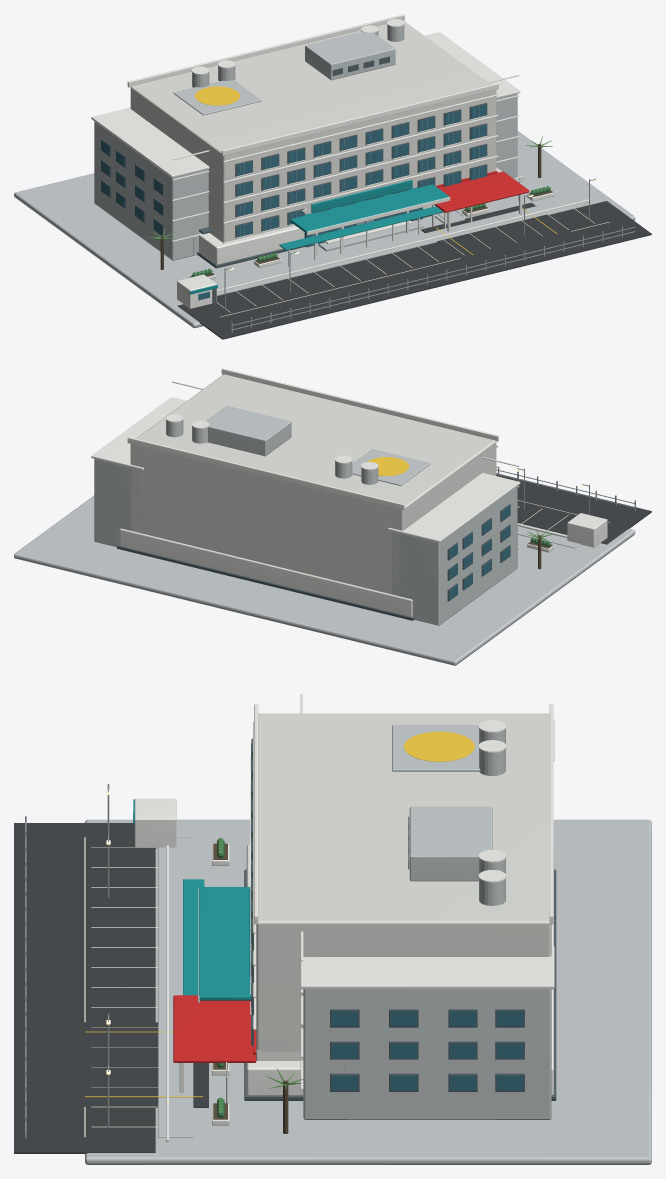
The model's file is Hospital.fbx.
3 views of the same model, one above another, from view 1: azimuth 30°, elevation 25°; view 2: azimuth 150°, elevation 25°; view 3: azimuth 270°, elevation 25° (orthographic). The views are drawn at different scales.
Visible parts, largest first — view 1: Main hospital building, Front access road, Hospital site foundation, Left clinical wing, Front pedestrian pavement, Emergency bay asphalt, Left wing roof cap, Rooftop mechanical room, Entrance canopy roof, Lower podium base, Emergency dropoff canopy, Main roof parapet front (+17 smaller); view 2: Main hospital building, Hospital site foundation, Left clinical wing, Lower podium base, Front access road, Left wing roof cap, Right clinical wing, Rooftop mechanical room, Main roof parapet rear, Main roof parapet front, Right wing roof cap, Podium dark plinth (+4 smaller); view 3: Main hospital building, Hospital site foundation, Front access road, Right clinical wing, Right wing roof cap, Emergency bay asphalt, Front pedestrian pavement, Entrance canopy roof, Rooftop mechanical room, Emergency dropoff canopy, Rooftop helipad platform, Lower podium base (+7 smaller).
Part boxes in pixels (bbox=[...]): Main hospital building: bbox=[130, 20, 496, 242]; Front access road: bbox=[178, 201, 651, 339]; Hospital site foundation: bbox=[14, 131, 635, 328]; Left clinical wing: bbox=[94, 121, 208, 260]; Front pedestrian pavement: bbox=[217, 196, 586, 295]; Emergency bay asphalt: bbox=[421, 202, 572, 259]; Left wing roof cap: bbox=[91, 107, 209, 177]; Rooftop mechanical room: bbox=[305, 31, 395, 80]; Entrance canopy roof: bbox=[290, 184, 449, 233]; Lower podium base: bbox=[199, 167, 501, 264]; Emergency dropoff canopy: bbox=[434, 171, 529, 212]; Main roof parapet front: bbox=[221, 83, 498, 156]; Main hospital building: bbox=[130, 374, 496, 596]; Hospital site foundation: bbox=[14, 495, 635, 665]; Left clinical wing: bbox=[391, 486, 517, 625]; Lower podium base: bbox=[119, 528, 412, 616]; Front access road: bbox=[496, 473, 651, 544]; Left wing roof cap: bbox=[388, 473, 520, 542]; Right clinical wing: bbox=[94, 459, 141, 547]; Rooftop mechanical room: bbox=[206, 406, 291, 456]; Main roof parapet rear: bbox=[127, 437, 404, 510]; Main roof parapet front: bbox=[221, 368, 498, 441]; Right wing roof cap: bbox=[91, 397, 186, 470]; Podium dark plinth: bbox=[117, 545, 414, 620]; Main hospital building: bbox=[256, 713, 551, 1060]; Hospital site foundation: bbox=[85, 819, 651, 1164]; Front access road: bbox=[14, 823, 155, 1153]; Right clinical wing: bbox=[303, 989, 551, 1119]; Right wing roof cap: bbox=[300, 946, 554, 989]; Emergency bay asphalt: bbox=[79, 1022, 208, 1107]; Front pedestrian pavement: bbox=[158, 837, 193, 1137]; Entrance canopy roof: bbox=[198, 887, 250, 1000]; Rooftop mechanical room: bbox=[409, 806, 492, 881]; Emergency dropoff canopy: bbox=[173, 995, 256, 1062]; Rooftop helipad platform: bbox=[392, 725, 480, 771]; Lower podium base: bbox=[246, 844, 553, 1095].
Size of the model in its own units: 6800 by 1919 by 5400.
